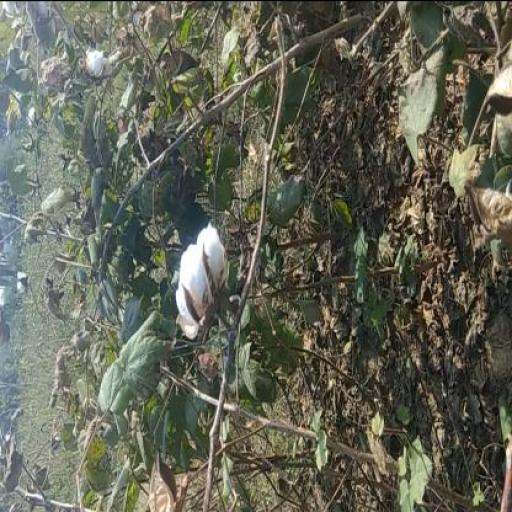cotton_ready: (168, 208, 254, 352)
